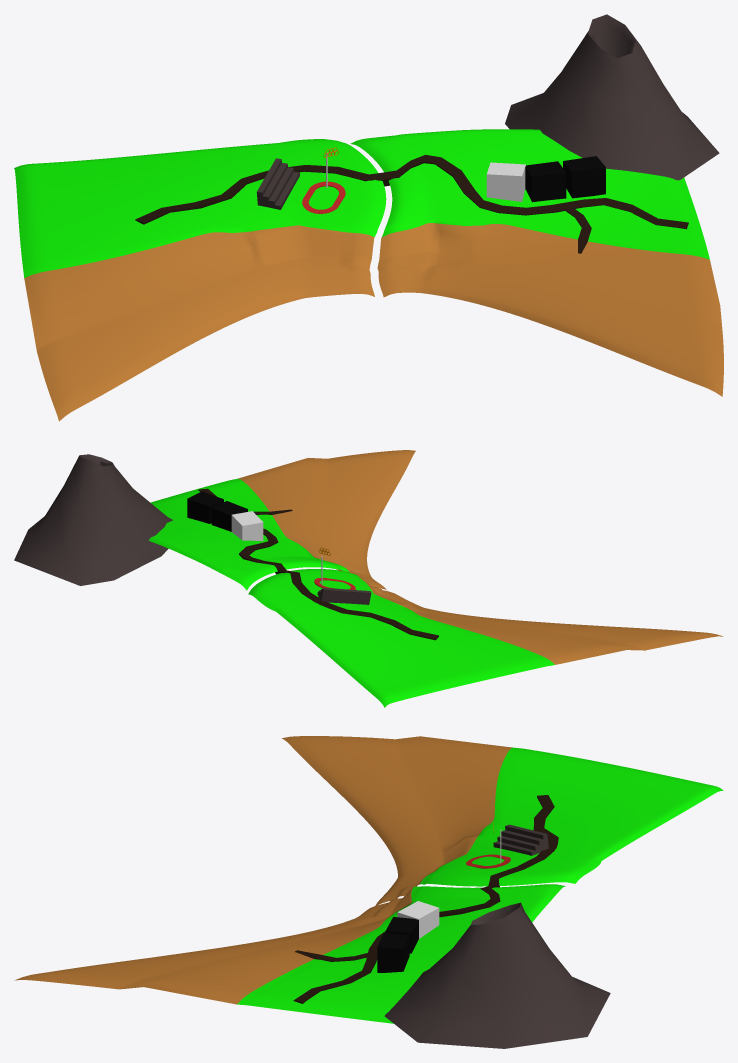
The model's file is TerrainLevelSelection001.FBX.
The picture shows the model from 3 angles, top to bottom: view 1: azimuth 30°, elevation 25°; view 2: azimuth 150°, elevation 25°; view 3: azimuth 270°, elevation 25°; orthographic projection. The views are drawn at different scales.
Visible parts, largest first — view 1: Box003; view 2: Box003; view 3: Box003.
Boxes of the visible parts, x1,y1,x2,y2 form: Box003: [14, 14, 723, 421]; Box003: [14, 450, 723, 707]; Box003: [14, 736, 723, 1048].
Bounding box in the file's own units: 20223 × 3919 × 17552.
